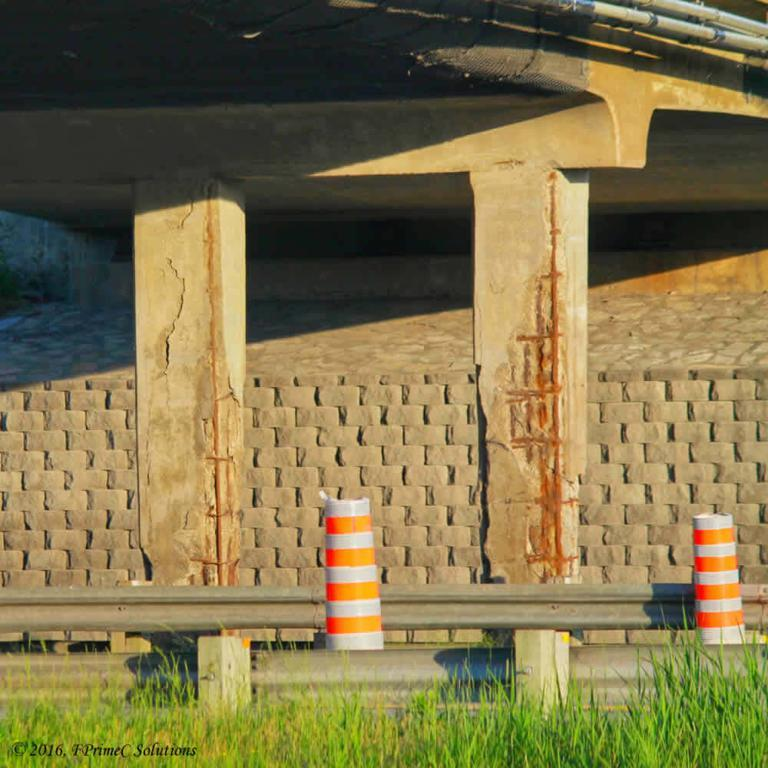spalling: (495, 170, 582, 582), (194, 180, 243, 585)
